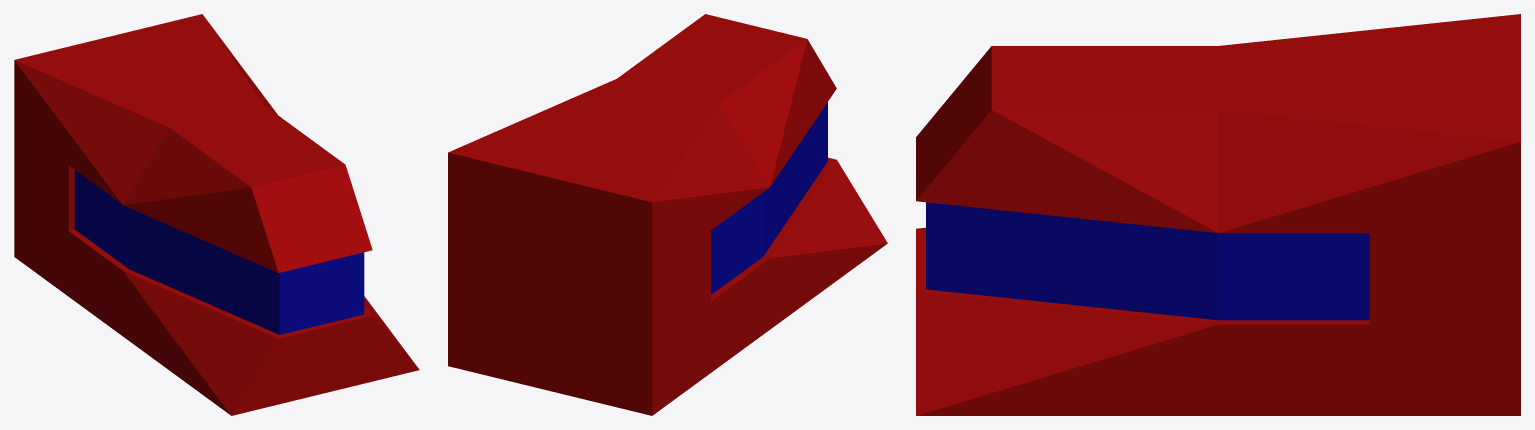
The model's file is Bridge_Cursor.obj.
3 views of the same model, side by side, from view 1: azimuth 30°, elevation 25°; view 2: azimuth 150°, elevation 25°; view 3: azimuth 270°, elevation 25° (orthographic). The views are drawn at different scales.
Visible parts, largest first — view 1: Cube.002_Cube.003; view 2: Cube.002_Cube.003; view 3: Cube.002_Cube.003.
Boxes of the visible parts, box(x1,y1,x2,y2) form: Cube.002_Cube.003: box(14, 14, 419, 415); Cube.002_Cube.003: box(448, 14, 887, 415); Cube.002_Cube.003: box(916, 14, 1520, 415).
Size of the model in its own units: 3 by 3 by 6.
